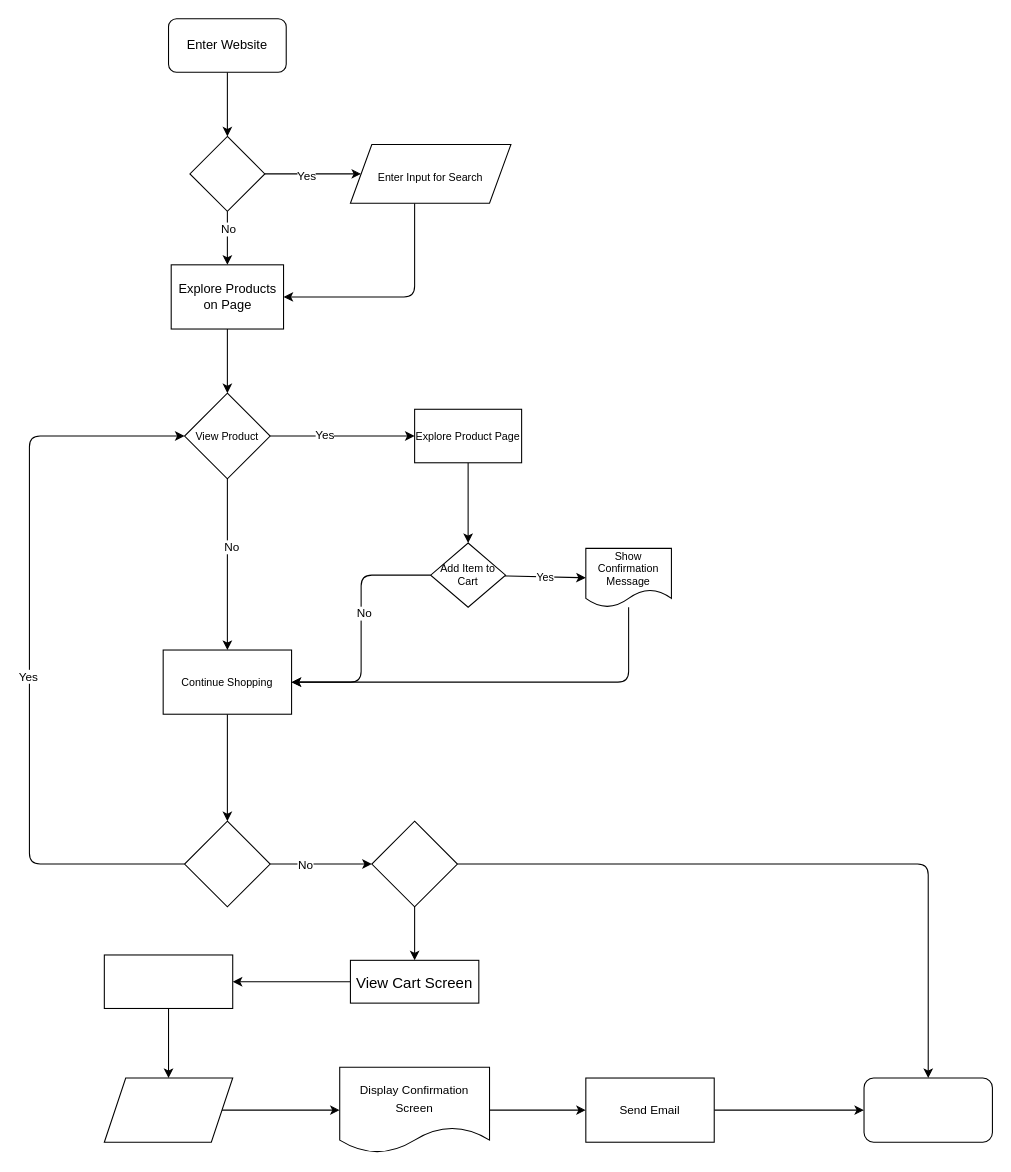
Some shapes in this 1011 by 1172 pixel diagram are drawn without their labels. Each missing label, with the box of its shape:
Exit Website: (863, 1077, 992, 1142)
Input Payment Information: (103, 1077, 233, 1142)
Proceed to Checkout: (371, 820, 457, 907)
Search: (189, 135, 265, 211)
Search For New Product: (184, 820, 270, 907)
View Payment Screen: (103, 954, 233, 1008)
